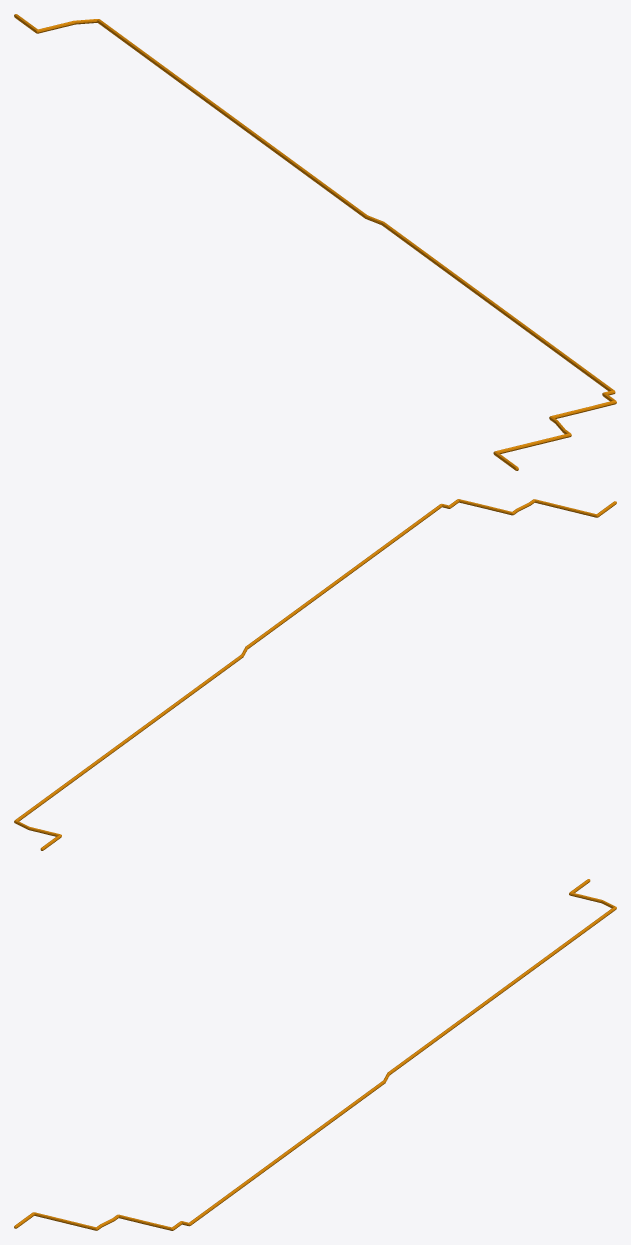
3 views of the same model, one above another, from view 1: azimuth 30°, elevation 25°; view 2: azimuth 150°, elevation 25°; view 3: azimuth 330°, elevation 25° (orthographic). The views are drawn at different scales.
Size of the model in its own units: 833 by 20 by 5516.
